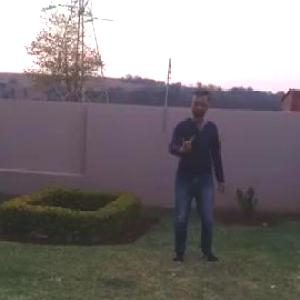takeoff-hand: (171, 128, 202, 159)
